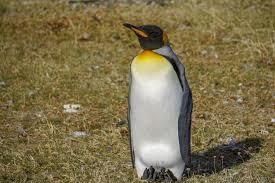king: (110, 14, 200, 183)
